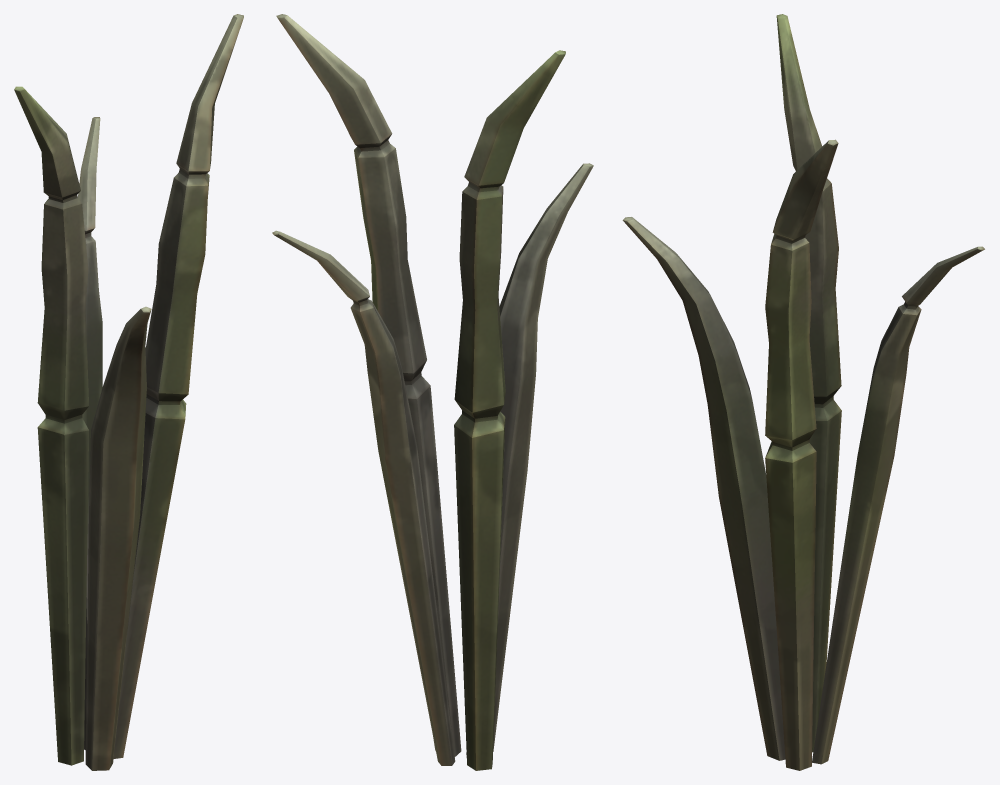
Rendered from SM_VasePlant.fbx.
3 renders of one model, left to right at view 1: azimuth 30°, elevation 25°; view 2: azimuth 150°, elevation 25°; view 3: azimuth 270°, elevation 25°, orthographic. The views are drawn at different scales.
Visible parts, largest first — view 1: SM_VasePlant_LOD0; view 2: SM_VasePlant_LOD0; view 3: SM_VasePlant_LOD0.
Part boxes in pixels (x1,y1,x2,y2): SM_VasePlant_LOD0: (14, 14, 243, 770); SM_VasePlant_LOD0: (272, 14, 593, 770); SM_VasePlant_LOD0: (622, 14, 984, 770).
Size of the model in its own units: 20.55 by 25.22 by 53.61.
1 material, 1 textured.
